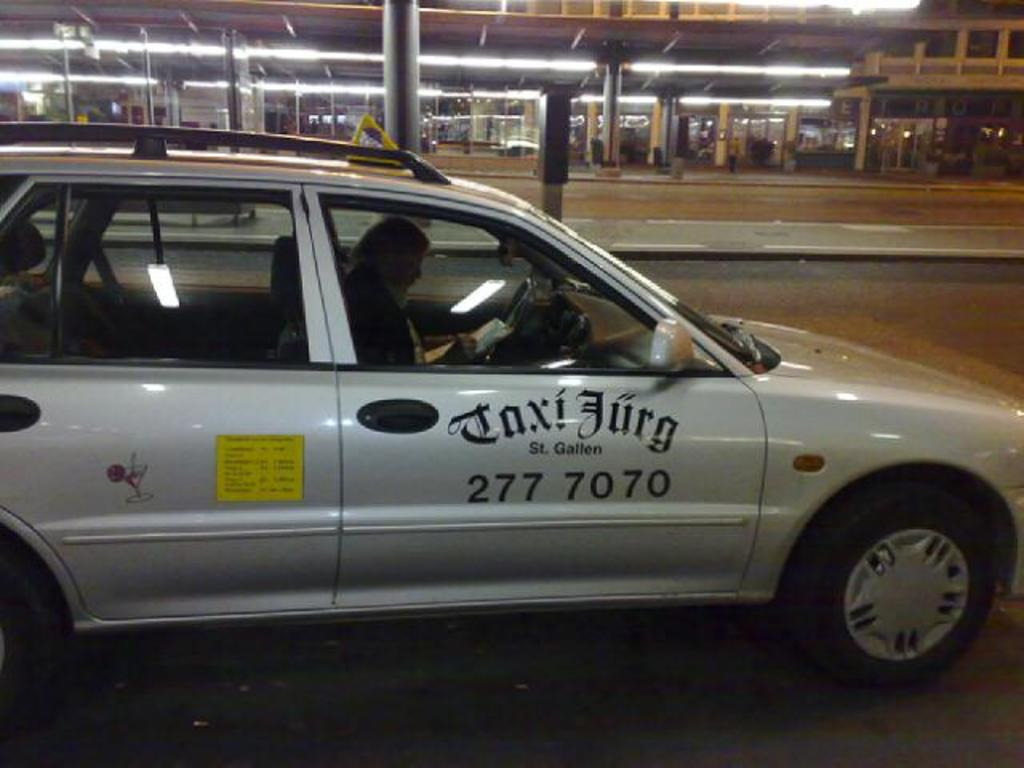Car: (3, 129, 1024, 705)
